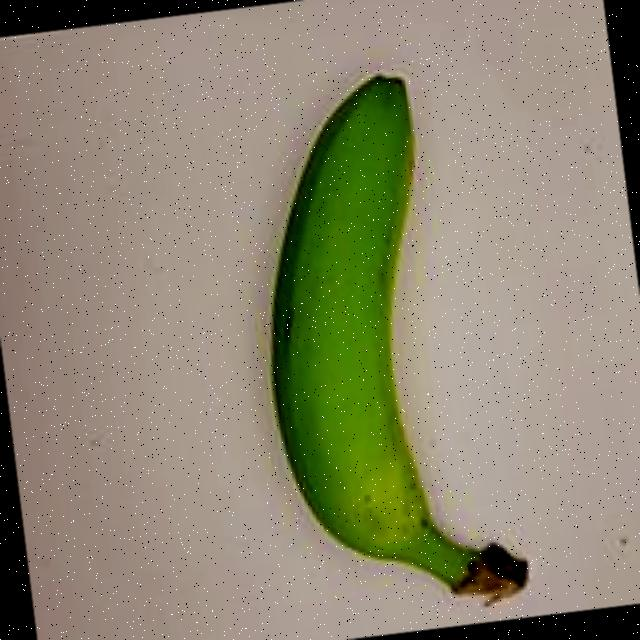Unripe: (205, 20, 580, 640)
